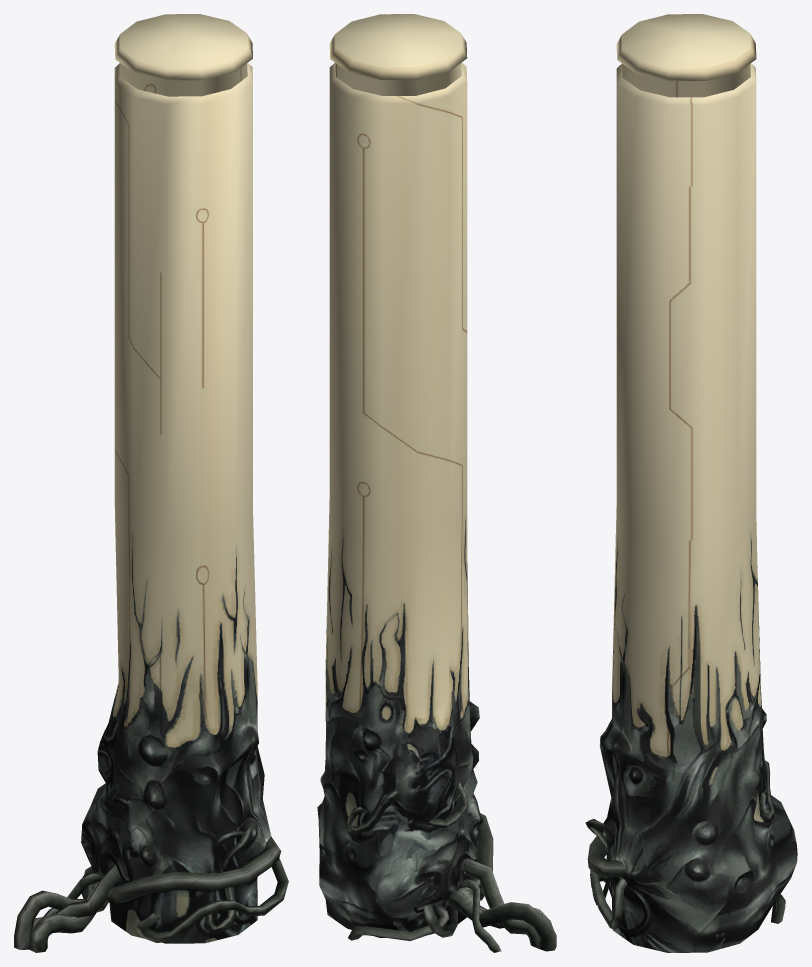
File: Tower for sketchfab.fbx
The picture shows the model from 3 angles, left to right: view 1: azimuth 30°, elevation 25°; view 2: azimuth 150°, elevation 25°; view 3: azimuth 270°, elevation 25°; orthographic projection.
Visible parts, largest first — view 1: Mesh_0016_Mesh.001; view 2: Mesh_0016_Mesh.001; view 3: Mesh_0016_Mesh.001.
Part boxes in pixels (box(x1,y1,x2,y2)): Mesh_0016_Mesh.001: box(14, 14, 288, 952); Mesh_0016_Mesh.001: box(317, 14, 556, 952); Mesh_0016_Mesh.001: box(585, 14, 797, 952).
Bounding box in the file's own units: 164 × 578 × 125.
